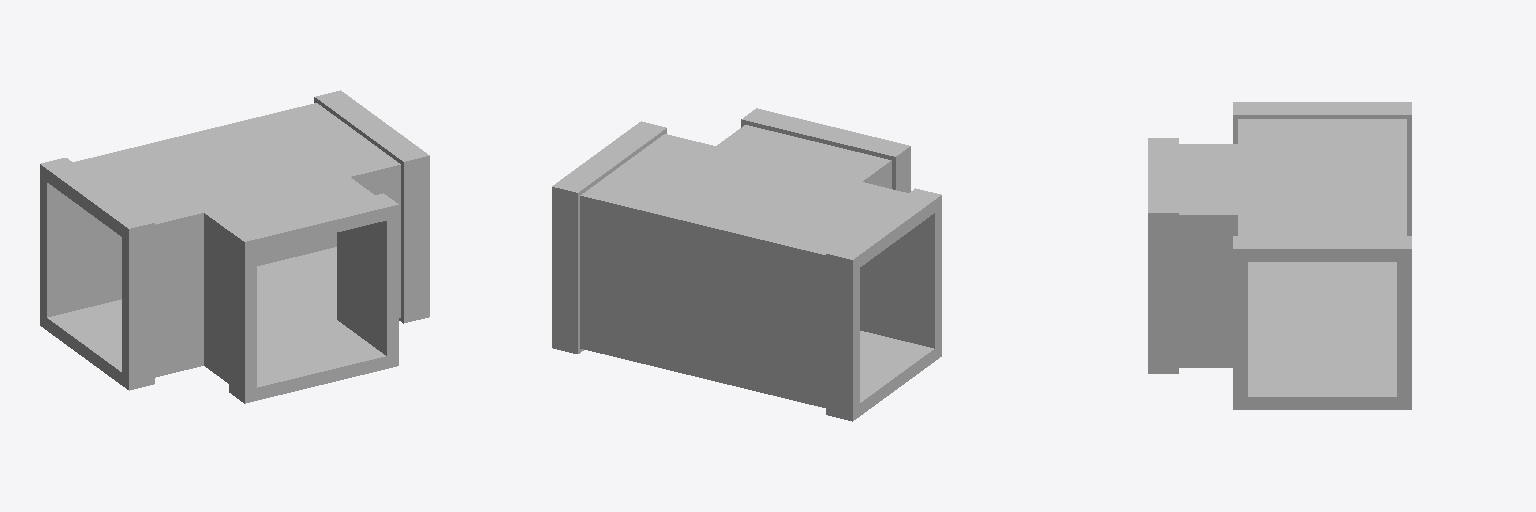
File: Vent-03.obj
3 views of the same model, side by side, from view 1: azimuth 30°, elevation 25°; view 2: azimuth 150°, elevation 25°; view 3: azimuth 270°, elevation 25° (orthographic).
Parts seen in each view (by area): view 1: Vent-03_Cube.013; view 2: Vent-03_Cube.013; view 3: Vent-03_Cube.013.
Boxes of the visible parts, <box> form: Vent-03_Cube.013: <box>40,90,429,403</box>; Vent-03_Cube.013: <box>552,108,941,421</box>; Vent-03_Cube.013: <box>1148,102,1411,409</box>.
Bounding box in the file's own units: 3.29 × 1.69 × 2.49.